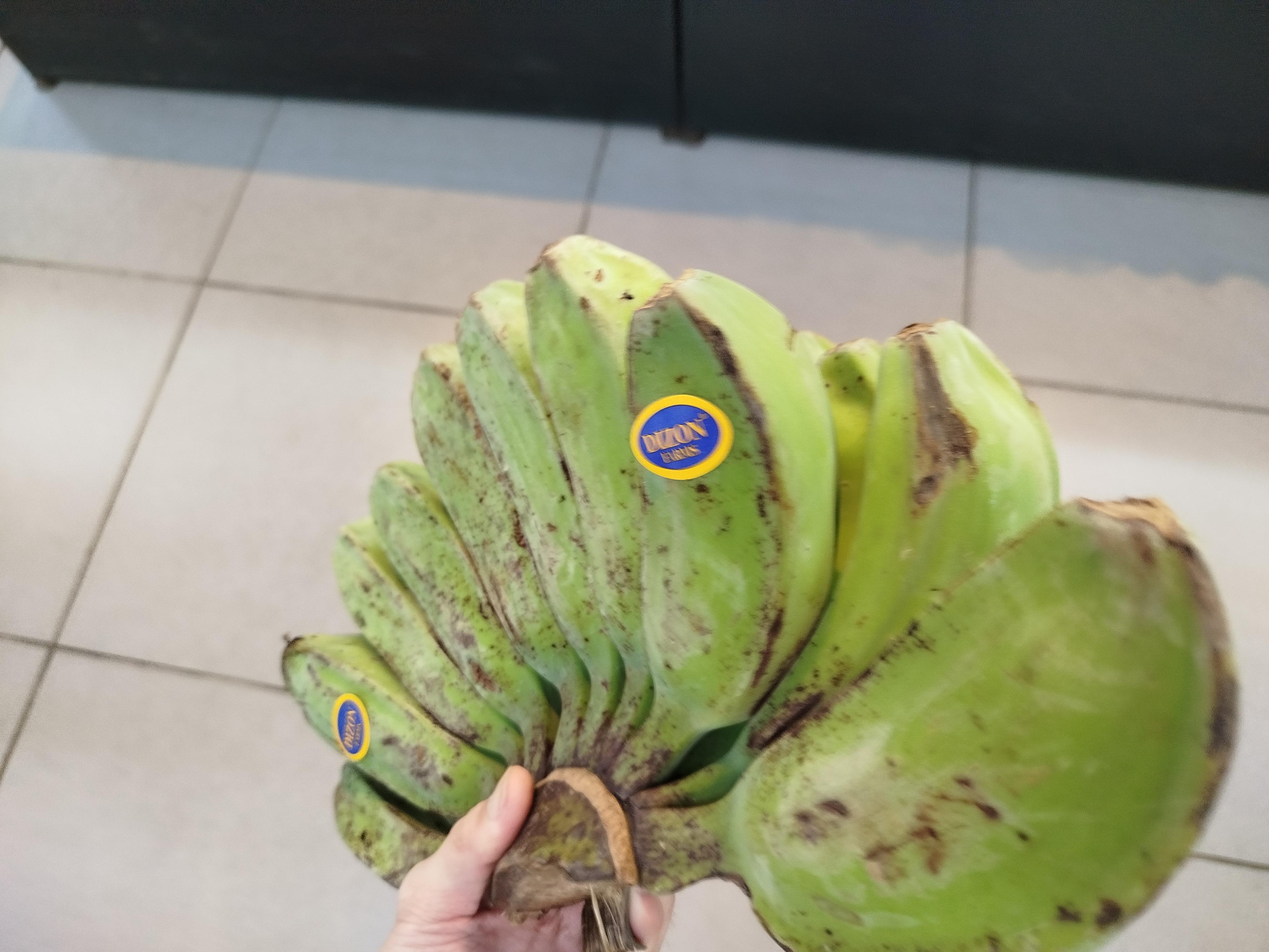underripe: (286, 239, 1241, 952)
